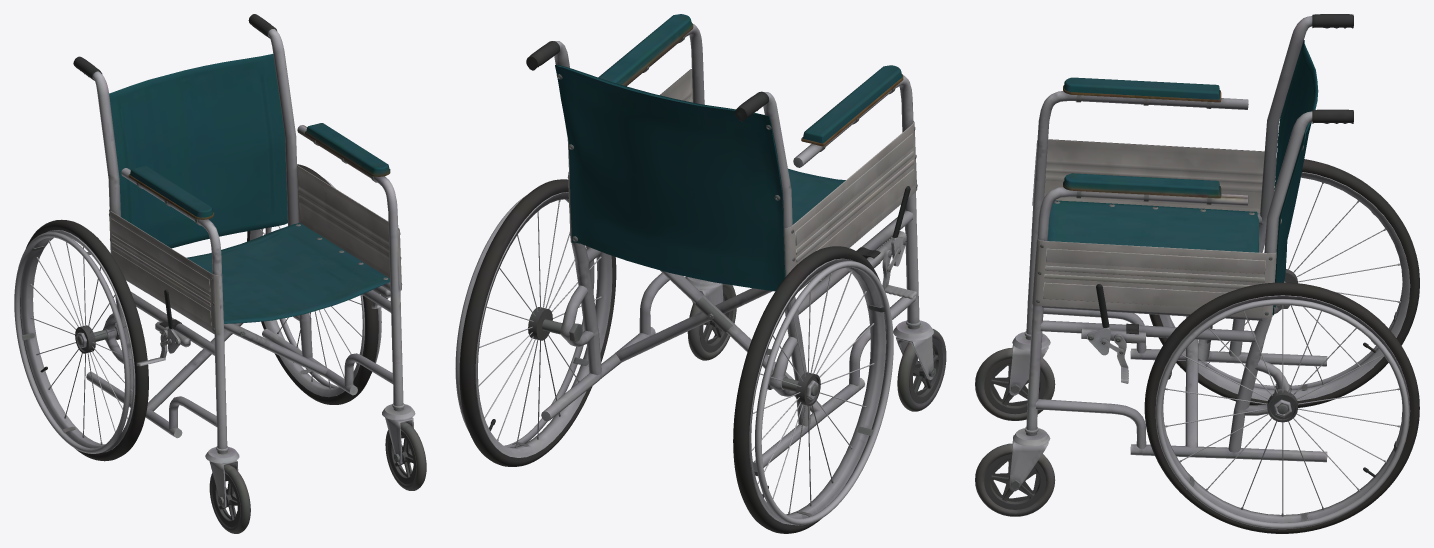
The model's file is wheelchair-cc0.glb.
3 renders of one model, left to right at view 1: azimuth 30°, elevation 25°; view 2: azimuth 150°, elevation 25°; view 3: azimuth 270°, elevation 25°, orthographic. The views are drawn at different scales.
Parts seen in each view (by area): view 1: wheelchair_01; view 2: wheelchair_01; view 3: wheelchair_01.
Part boxes in pixels (box(x1,y1,x2,y2)): wheelchair_01: box(14, 14, 426, 533); wheelchair_01: box(455, 14, 946, 533); wheelchair_01: box(975, 14, 1419, 533).
Bounding box in the file's own units: 0.824 × 1.1 × 1.09.
1 material, 1 textured.
